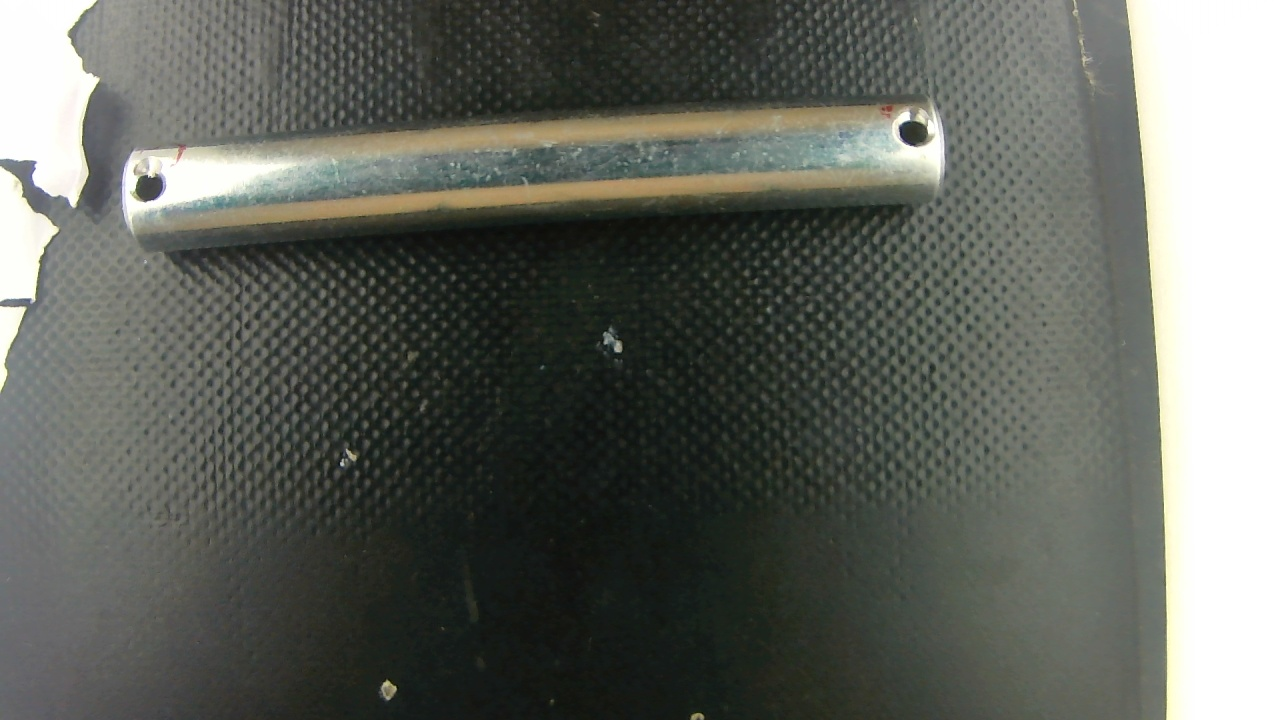drill touch_pin: (134, 156, 161, 186)
